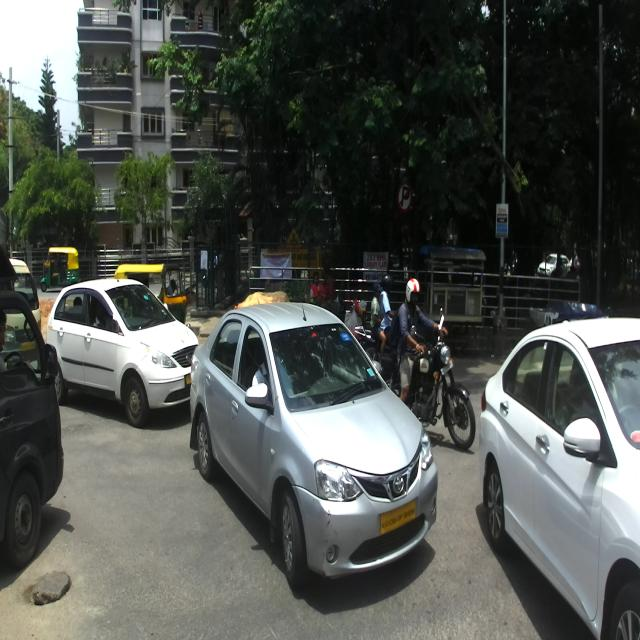car ahead at: (187, 295, 442, 594), (479, 311, 640, 636), (47, 277, 200, 414)
